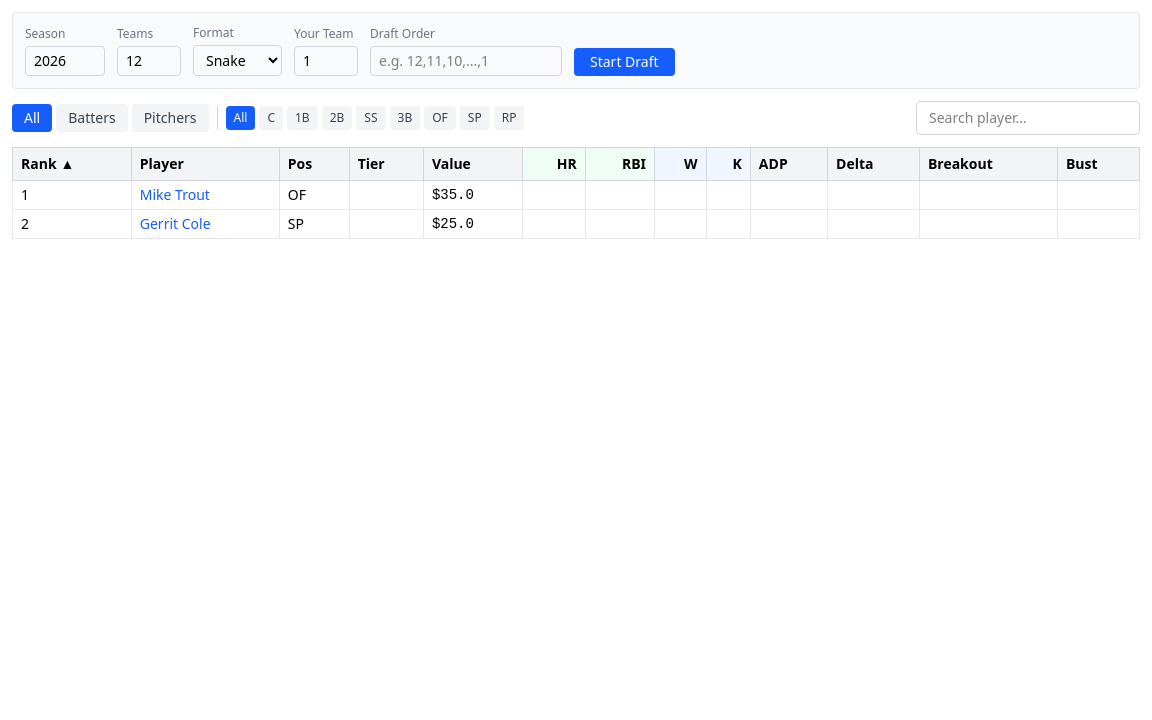
Test case: DraftDashboard › picks a player and updates panels
Start session
Step 1. Click the button "Start Draft" → (624, 62), box [574,48,674,76]
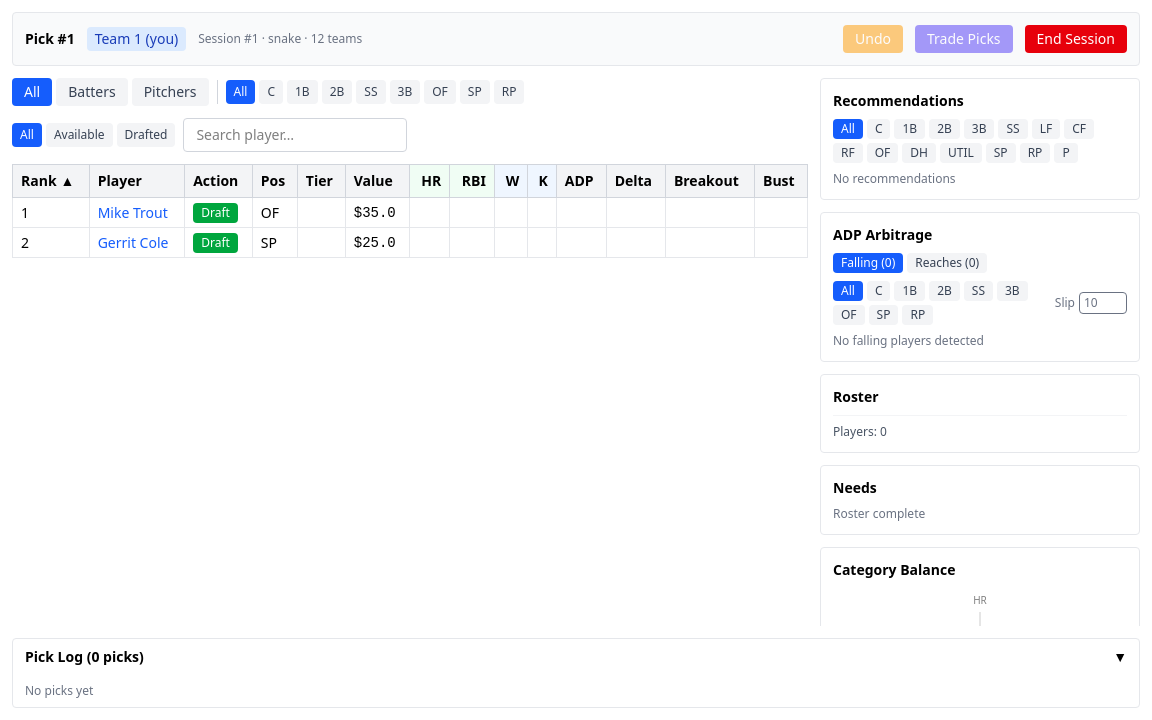
Pick Trout via board Draft button
Step 2. Click the button "Draft" in the row of "35.0" → (216, 213), box [193,203,238,223]
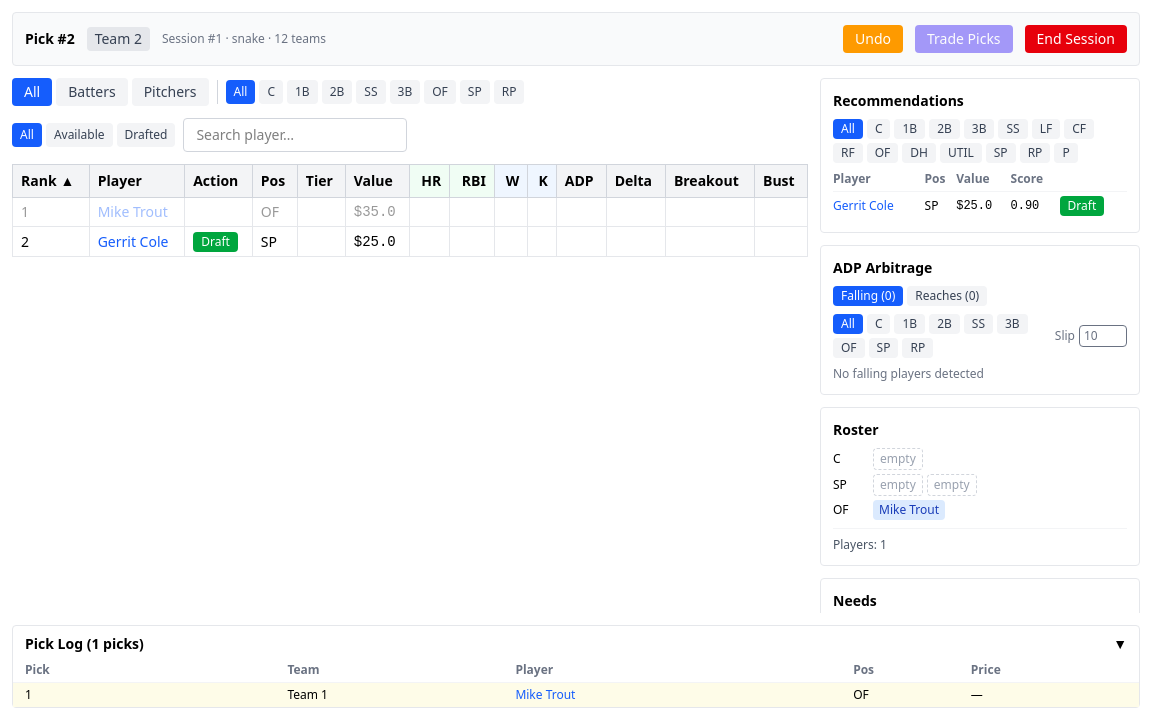
Expected: the text "Pick #2" is shown, [25,29,75,49]
Expected: the text "Players: 1" is shown, [833,537,887,553]
